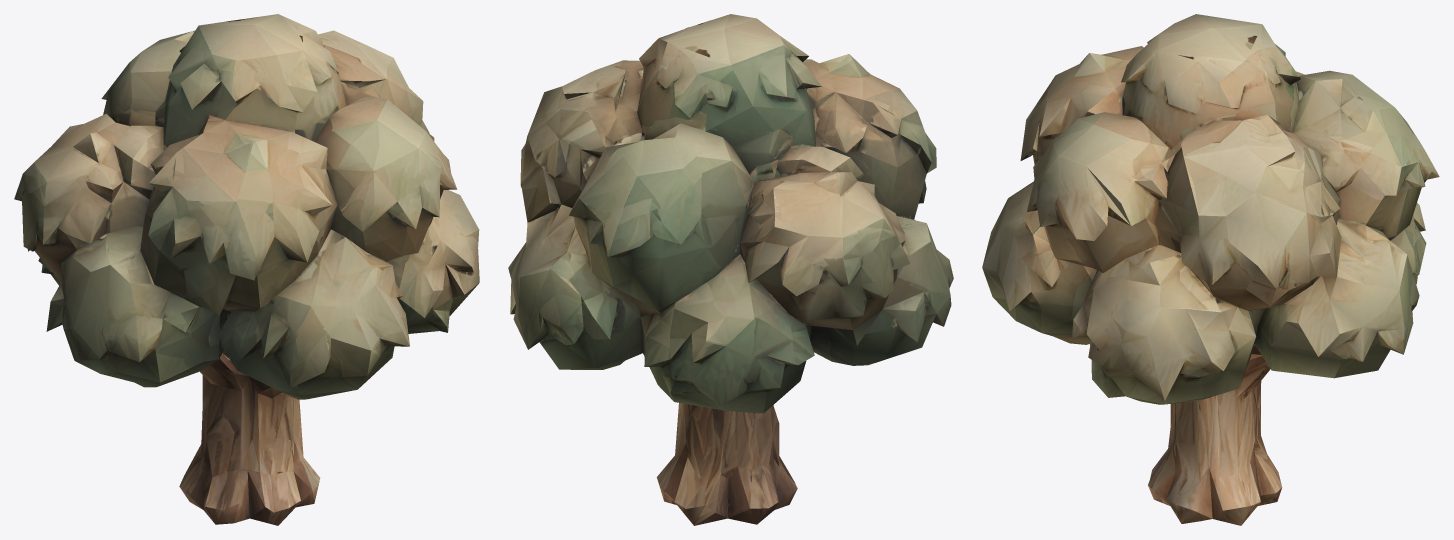
The model's file is Env_Tree_Round.fbx.
The picture shows the model from 3 angles, left to right: view 1: azimuth 30°, elevation 25°; view 2: azimuth 150°, elevation 25°; view 3: azimuth 270°, elevation 25°; orthographic projection.
Parts seen in each view (by area): view 1: Env_Tree_Round; view 2: Env_Tree_Round; view 3: Env_Tree_Round.
Boxes of the visible parts, box(x1,y1,x2,y2) form: Env_Tree_Round: box(14, 14, 479, 525); Env_Tree_Round: box(508, 14, 953, 525); Env_Tree_Round: box(982, 14, 1439, 525).
Bounding box in the file's own units: 2 × 2.31 × 2.01.
Materials: 1 (1 with a texture image).
